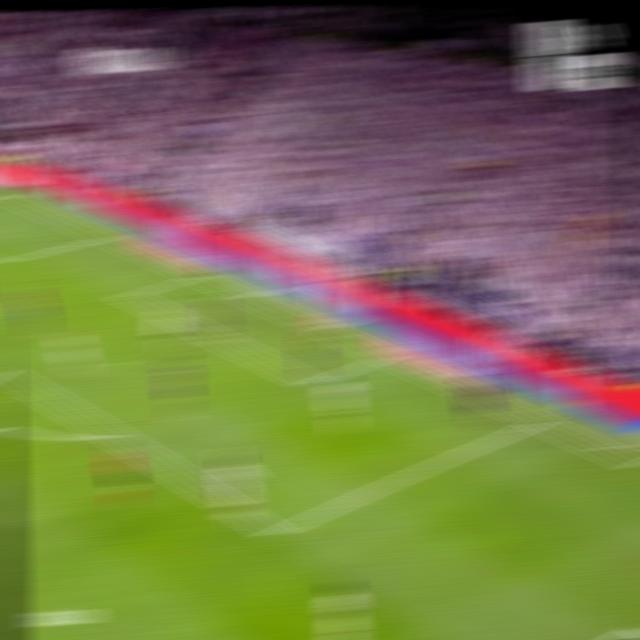bigarea_bottom_inner: (262, 519, 290, 546)
bigarea_bottom_outter: (524, 411, 552, 430)
bigarea_top_outter: (94, 230, 118, 242)
bottom_arc_area_intersection: (98, 423, 126, 446)
corner: (0, 188, 21, 199)
smallarea_bottom_inner: (301, 373, 326, 391)
smallarea_top_inner: (118, 288, 140, 302)
